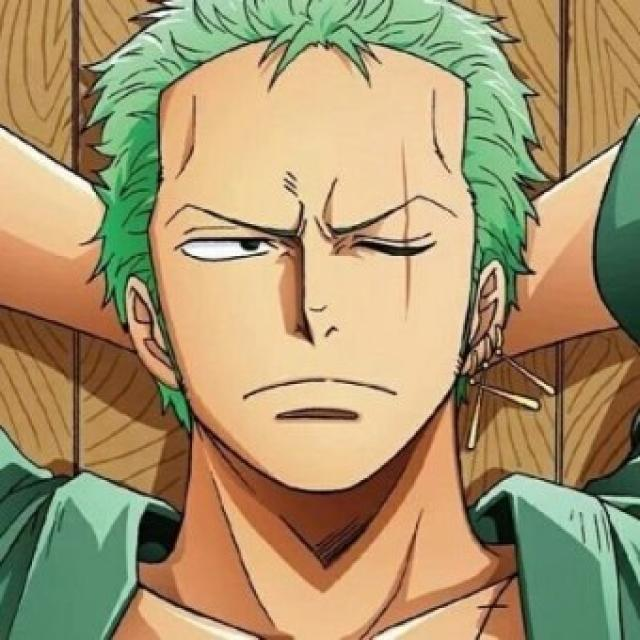Zoro: (69, 0, 546, 500)
